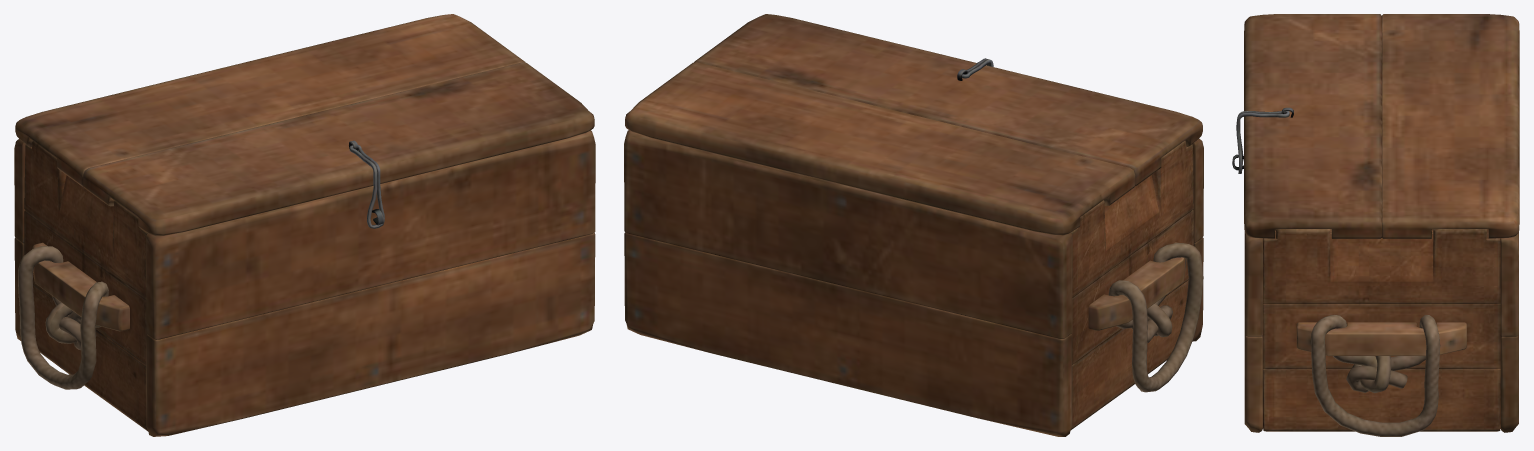
File: crate.jpg-JKg070_g.glb
The picture shows the model from 3 angles, left to right: view 1: azimuth 30°, elevation 25°; view 2: azimuth 150°, elevation 25°; view 3: azimuth 270°, elevation 25°; orthographic projection. The views are drawn at different scales.
Parts seen in each view (by area): view 1: wooden_crate_01, wooden_crate_01_lid, wooden_crate_01_latch; view 2: wooden_crate_01, wooden_crate_01_lid; view 3: wooden_crate_01_lid, wooden_crate_01, wooden_crate_01_latch.
Boxes of the visible parts, x1,y1,x2,y2 form: wooden_crate_01: [14, 130, 595, 436]; wooden_crate_01_lid: [15, 14, 594, 236]; wooden_crate_01_latch: [349, 145, 384, 228]; wooden_crate_01: [624, 130, 1203, 436]; wooden_crate_01_lid: [625, 14, 1202, 235]; wooden_crate_01_lid: [1244, 14, 1519, 238]; wooden_crate_01: [1232, 154, 1518, 436]; wooden_crate_01_latch: [1236, 111, 1289, 173].
Size of the model in its own units: 0.8253 by 0.3496 by 0.409.
1 material, 1 textured.
